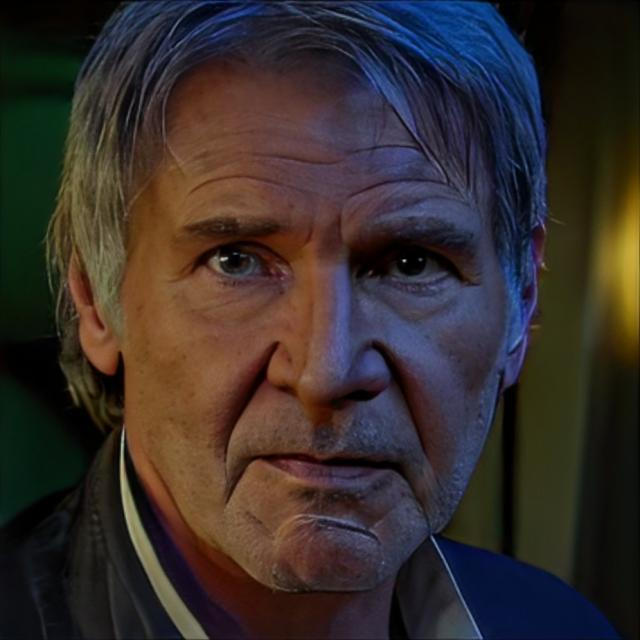sad: (116, 61, 512, 595)
